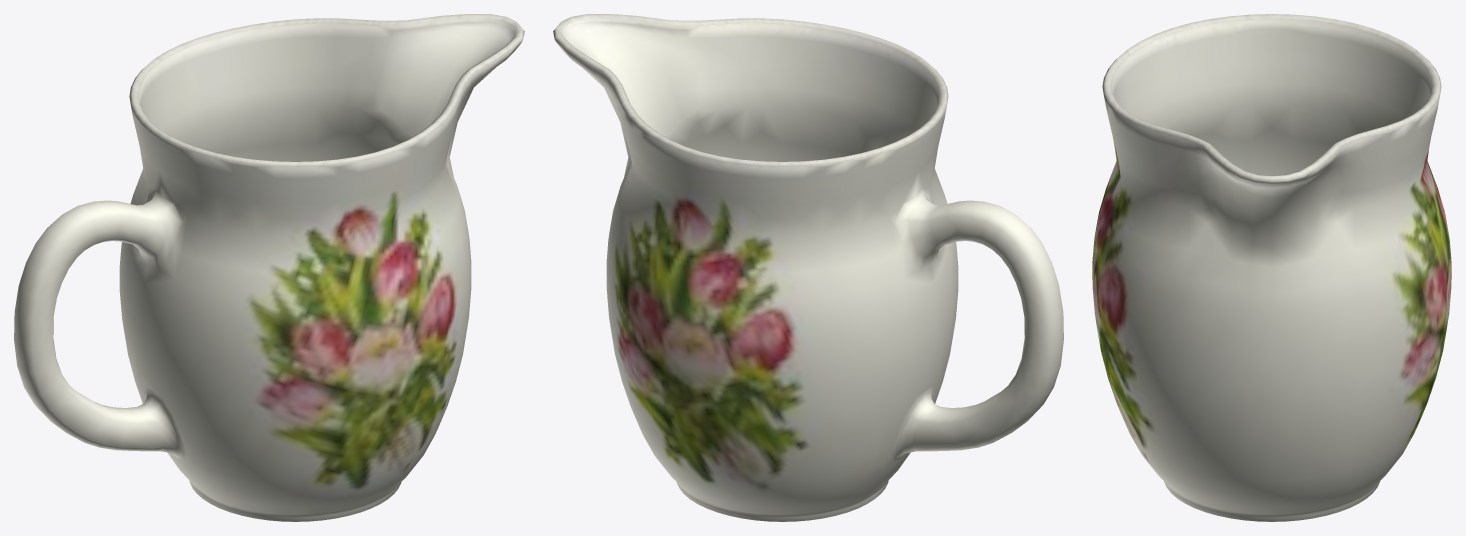
The model's file is jug_01.glb.
3 views of the same model, side by side, from view 1: azimuth 30°, elevation 25°; view 2: azimuth 150°, elevation 25°; view 3: azimuth 270°, elevation 25° (orthographic). The views are drawn at different scales.
Parts seen in each view (by area): view 1: jug_01; view 2: jug_01; view 3: jug_01.
Part boxes in pixels (x1,y1,x2,y2): jug_01: (14, 14, 524, 521); jug_01: (553, 14, 1063, 521); jug_01: (1092, 14, 1451, 521).
Bounding box in the file's own units: 0.2753 × 0.2113 × 0.1675.
1 material, 1 textured.
